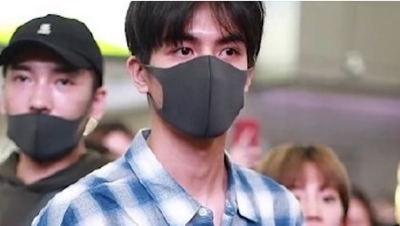mask_weared_incorrect: (3, 65, 96, 163)
with_mask: (146, 28, 249, 140)
without_mask: (287, 180, 343, 225)
